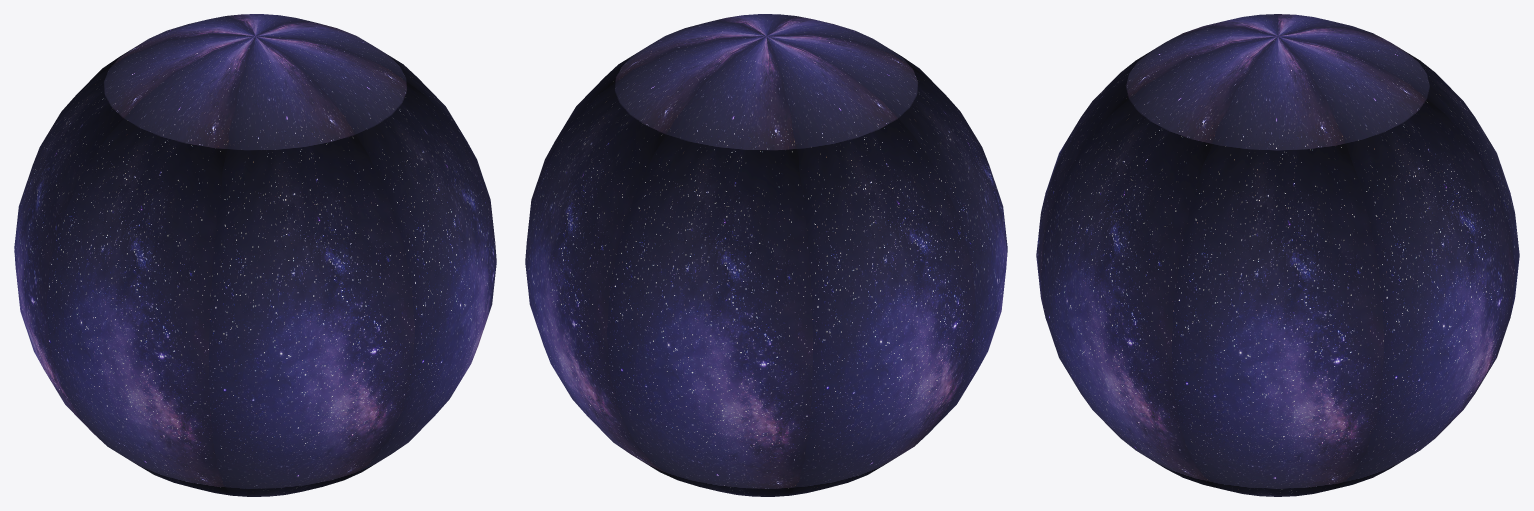
File: ChaoKarateNight.glb
3 views of the same model, side by side, from view 1: azimuth 30°, elevation 25°; view 2: azimuth 150°, elevation 25°; view 3: azimuth 270°, elevation 25° (orthographic).
Visible parts, largest first — view 1: Sphere; view 2: Sphere; view 3: Sphere.
Part boxes in pixels (box(x1,y1,x2,y2)): Sphere: box(14, 14, 496, 496); Sphere: box(525, 14, 1007, 496); Sphere: box(1036, 14, 1519, 496).
Size of the model in its own units: 1779 by 1779 by 1779.
Materials: 9 (9 with a texture image).
